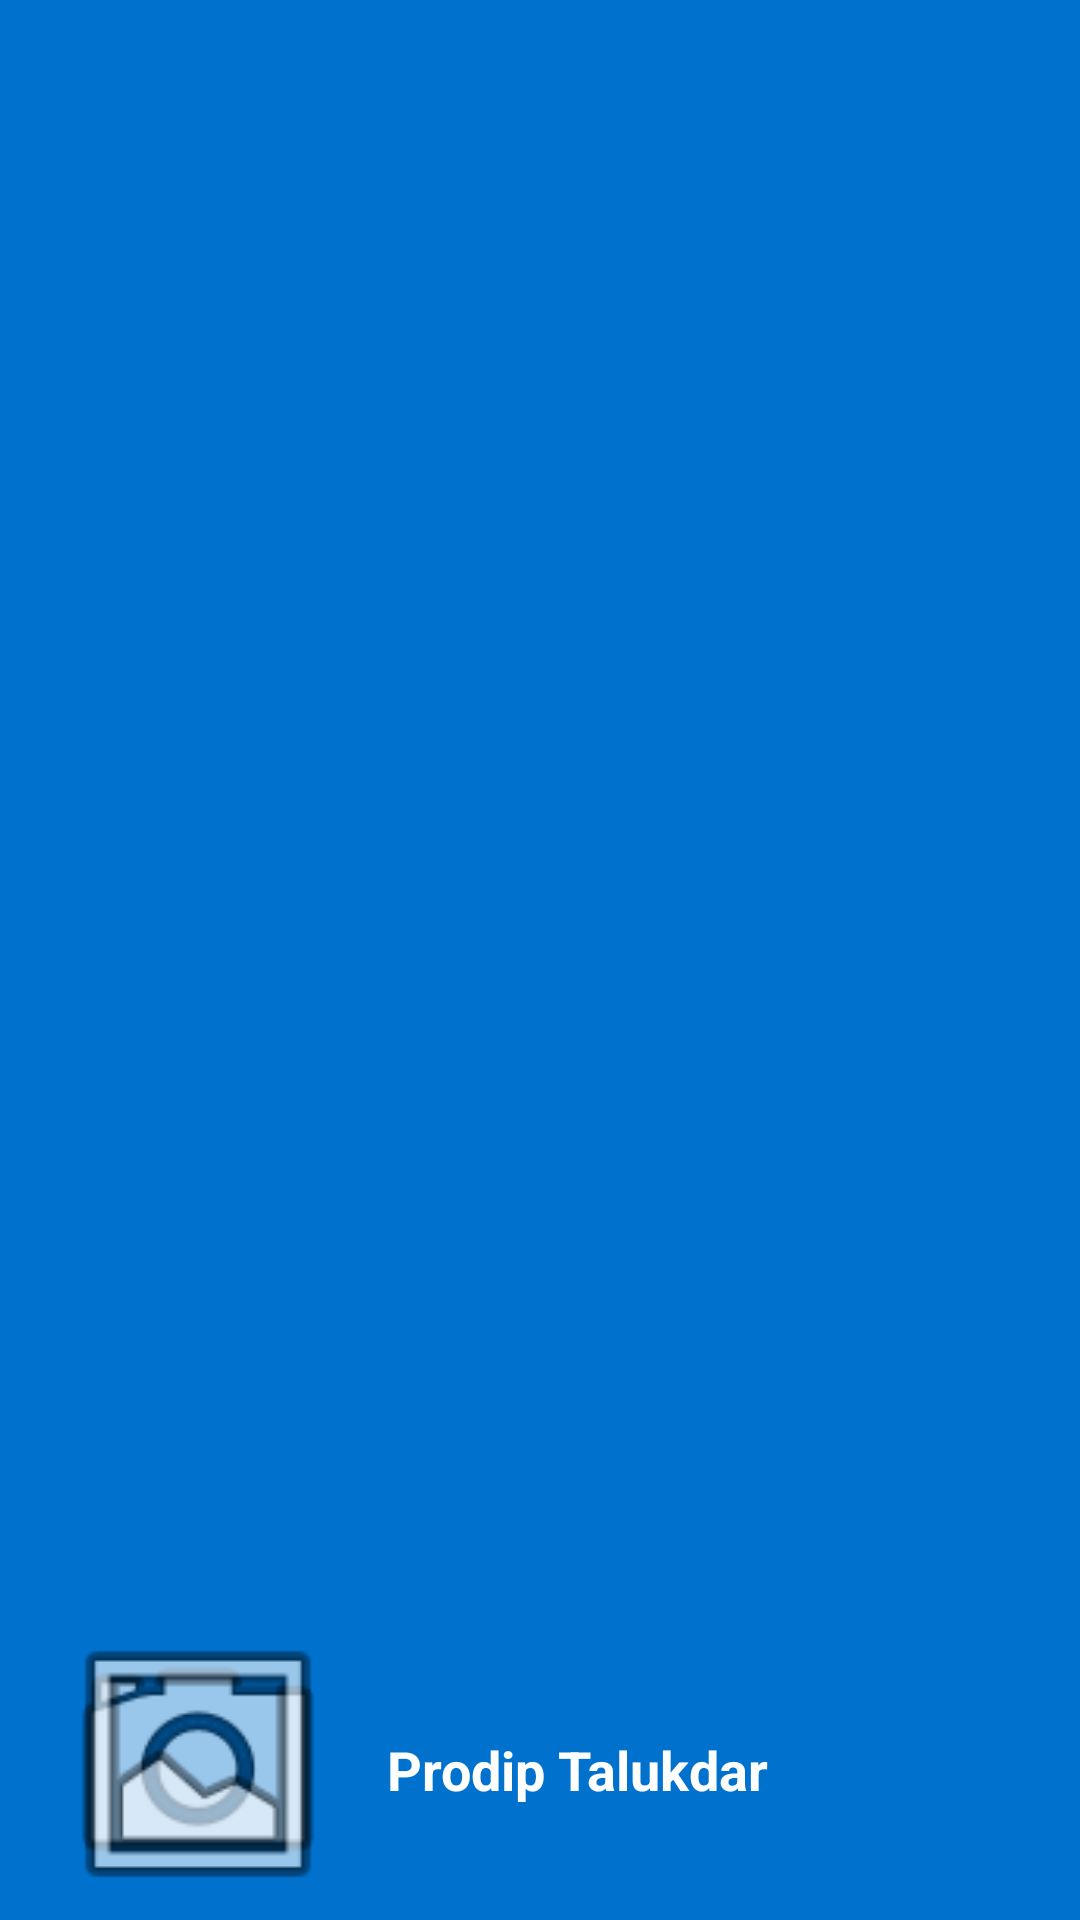

Icons on this 1080w x 1920h Android screen, each with its box as {"x1": x1, "y1": y1, "x2": x2, "y2": y2}:
Profile image: {"x1": 82, "y1": 1651, "x2": 314, "y2": 1877}
